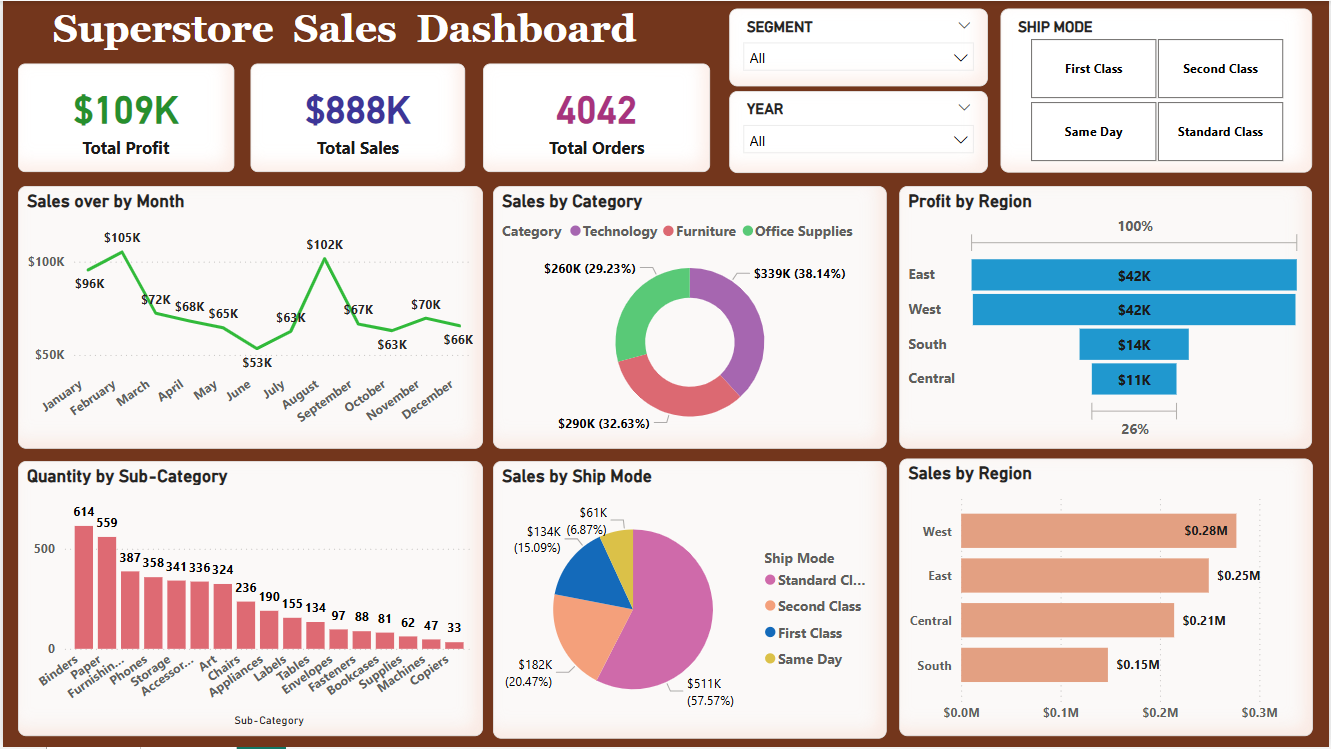

What the dashboard file says about the page in this screenshot:
{"tool":"powerbi","page":{"name":"Page 1","canvas":[1280,720],"ordinal":0},"visuals":[{"type":"card","fields":{"Values":["CountNonNull(Sample - Superstore.Customer ID)"]},"box":[463.3,60.3,219.6,105],"z":0},{"type":"card","fields":{"Values":["Sum(Sample - Superstore.Sales)"]},"box":[238.9,60.3,207.5,105],"z":1000},{"type":"slicer","fields":{"Values":["Sample - Superstore.Segment"]},"box":[701.2,7,249.7,74.9],"z":2000},{"type":"slicer","fields":{"Values":["Sample - Superstore.Order Date.Variation.Date Hierarchy.Year"]},"box":[701.2,86.5,249.7,78.9],"z":3000},{"type":"slicer","fields":{"Values":["Sample - Superstore.Ship Mode"]},"box":[962.7,7.2,300.4,158],"z":4000},{"type":"lineChart","title":"Sales over by Month","fields":{"Y":["Sum(Sample - Superstore.Sales)"],"Category":["Sample - Superstore.Order Date.Variation.Date Hierarchy.Month"]},"box":[14.5,178.6,448.8,253.4],"z":5000},{"type":"card","fields":{"Values":["Sum(Sample - Superstore.Profit)"]},"box":[14.5,60.3,208.7,105],"z":6000},{"type":"barChart","title":"Sales by Region","fields":{"Category":["Sample - Superstore.Region"],"Y":["Sum(Sample - Superstore.Sales)"]},"box":[865,441.6,399.3,267.8],"z":7000},{"type":"donutChart","title":"Sales by Category","fields":{"Category":["Sample - Superstore.Category"],"Y":["Sum(Sample - Superstore.Sales)"]},"box":[472.9,178.6,380,253.4],"z":8000},{"type":"pieChart","title":"Sales by Ship Mode","fields":{"Category":["Sample - Superstore.Ship Mode"],"Y":["Sum(Sample - Superstore.Sales)"]},"box":[472.9,444,380,267.8],"z":9000},{"type":"funnel","title":"Profit by Region","fields":{"Category":["Sample - Superstore.Region"],"Y":["Sum(Sample - Superstore.Profit)"]},"box":[865,178.6,398.1,253.4],"z":10000},{"type":"clusteredColumnChart","title":"Quantity by Sub-Category","fields":{"Category":["Sample - Superstore.Sub-Category"],"Y":["CountNonNull(Sample - Superstore.Quantity)"]},"box":[14.5,444,448.8,265.4],"z":11000},{"type":"textbox","box":[14.5,0,614.1,53.1],"z":12000}]}

Visuals, with their boxes in screenshot pixels (x1, y1, x2, y2), scaled from the page's 1280x720 canvas onto the 1331x749 screenshot:
card - CountNonNull(Sample - Superstore.Customer ID): <box>482,63,710,172</box>
card - Sum(Sample - Superstore.Sales): <box>248,63,464,172</box>
slicer - Sample - Superstore.Segment: <box>729,7,989,85</box>
slicer - Sample - Superstore.Order Date.Variation.Date Hierarchy.Year: <box>729,90,989,172</box>
slicer - Sample - Superstore.Ship Mode: <box>1001,7,1313,172</box>
"Sales over by Month" lineChart: <box>15,186,482,449</box>
card - Sum(Sample - Superstore.Profit): <box>15,63,232,172</box>
"Sales by Region" barChart: <box>899,459,1315,738</box>
"Sales by Category" donutChart: <box>492,186,887,449</box>
"Sales by Ship Mode" pieChart: <box>492,462,887,740</box>
"Profit by Region" funnel: <box>899,186,1313,449</box>
"Quantity by Sub-Category" clusteredColumnChart: <box>15,462,482,738</box>
textbox: <box>15,0,654,55</box>
